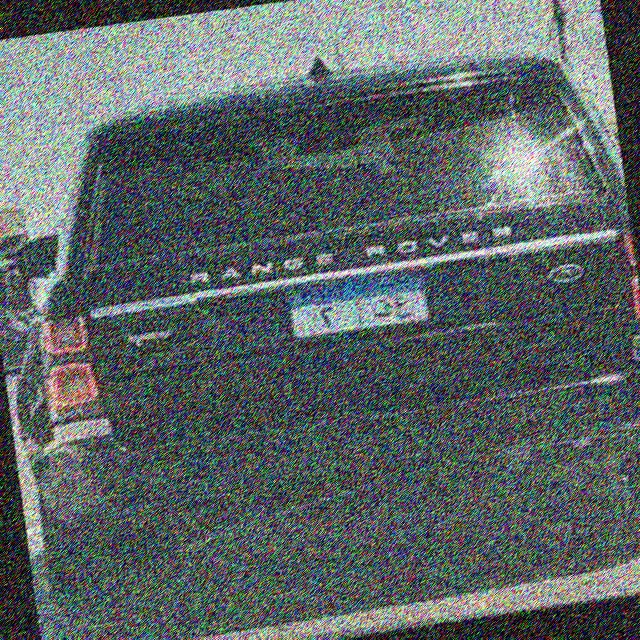License Plate: (285, 267, 433, 343)
